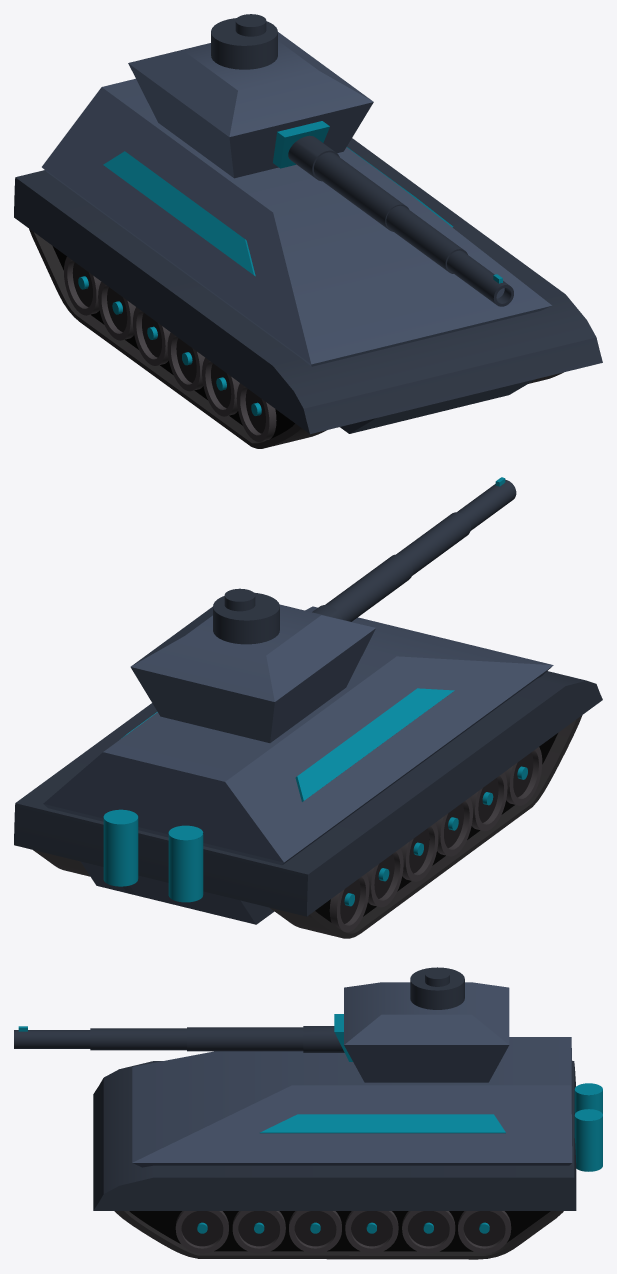
Rendered from tankPlayer.fbx.
3 views of the same model, one above another, from view 1: azimuth 30°, elevation 25°; view 2: azimuth 150°, elevation 25°; view 3: azimuth 270°, elevation 25° (orthographic). The views are drawn at different scales.
Visible parts, largest first — view 1: back, head; view 2: back, head; view 3: back, head.
Part boxes in pixels (<box>): back: <box>14,78,602,448</box>; head: <box>128,14,513,306</box>; back: <box>14,606,602,938</box>; head: <box>130,477,516,742</box>; back: <box>93,1037,602,1259</box>; head: <box>14,967,509,1082</box>.
Size of the model in its own units: 606 by 562 by 1293.
Materials: 3 (3 with a texture image).
